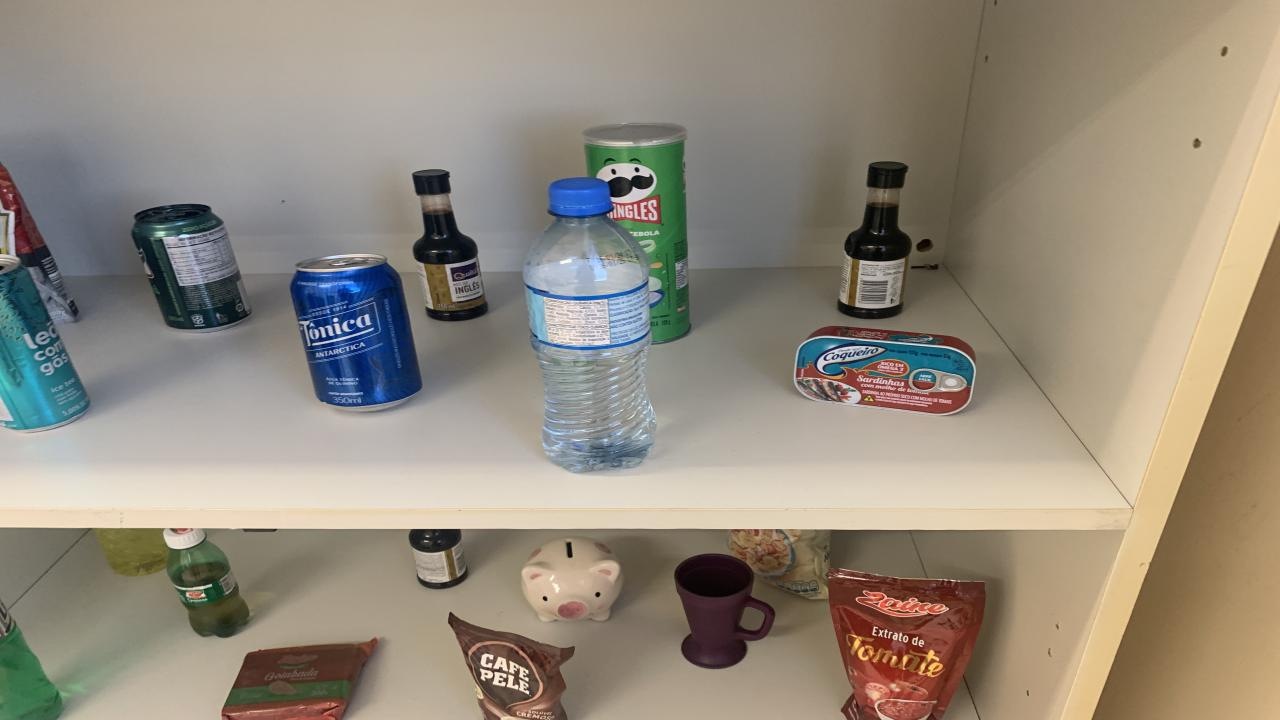Coffee-Pantry_Items: (448, 613, 575, 720)
Detergent-Cleanup_Items: (0, 602, 62, 720), (95, 529, 170, 576)
English_Sauce-Pantry_Items: (838, 161, 912, 319), (412, 169, 488, 321), (410, 529, 468, 589)
Flakes-Snacks: (730, 529, 830, 600)
Guarana-Drinks: (162, 529, 250, 638)
Guarana_Can-Drinks: (132, 204, 250, 332)
Guava-Snacks: (222, 638, 378, 720)
Pig_Safe-Miscellaneous: (520, 536, 622, 622)
Pringles-Snacks: (582, 122, 690, 343)
Tea-Drinks: (0, 255, 90, 431)
Tomato_Sauce-Pantry_Items: (828, 568, 985, 720), (0, 163, 78, 324)
Tonic-Drinks: (290, 255, 422, 411)
Tuna_Can-Pantry_Items: (795, 326, 975, 414)
Water_Bottle-Drinks: (522, 176, 655, 472)
